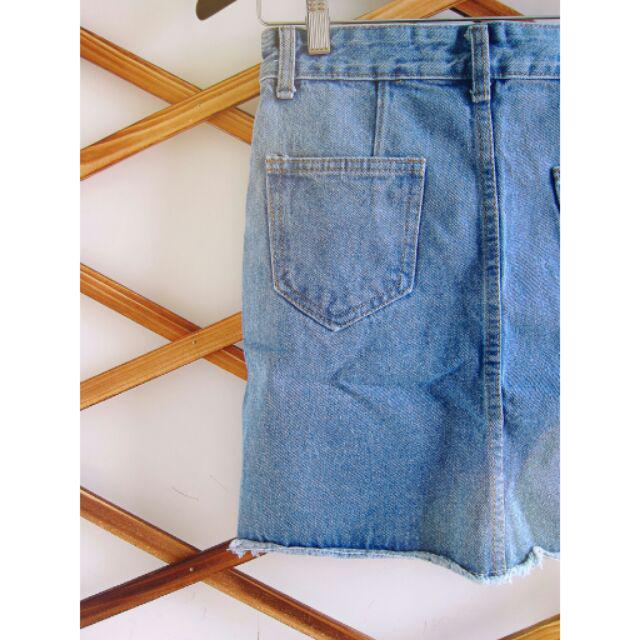Skirts: (220, 16, 565, 581)
